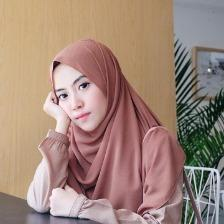HijabSyar-i: (50, 38, 188, 216)
